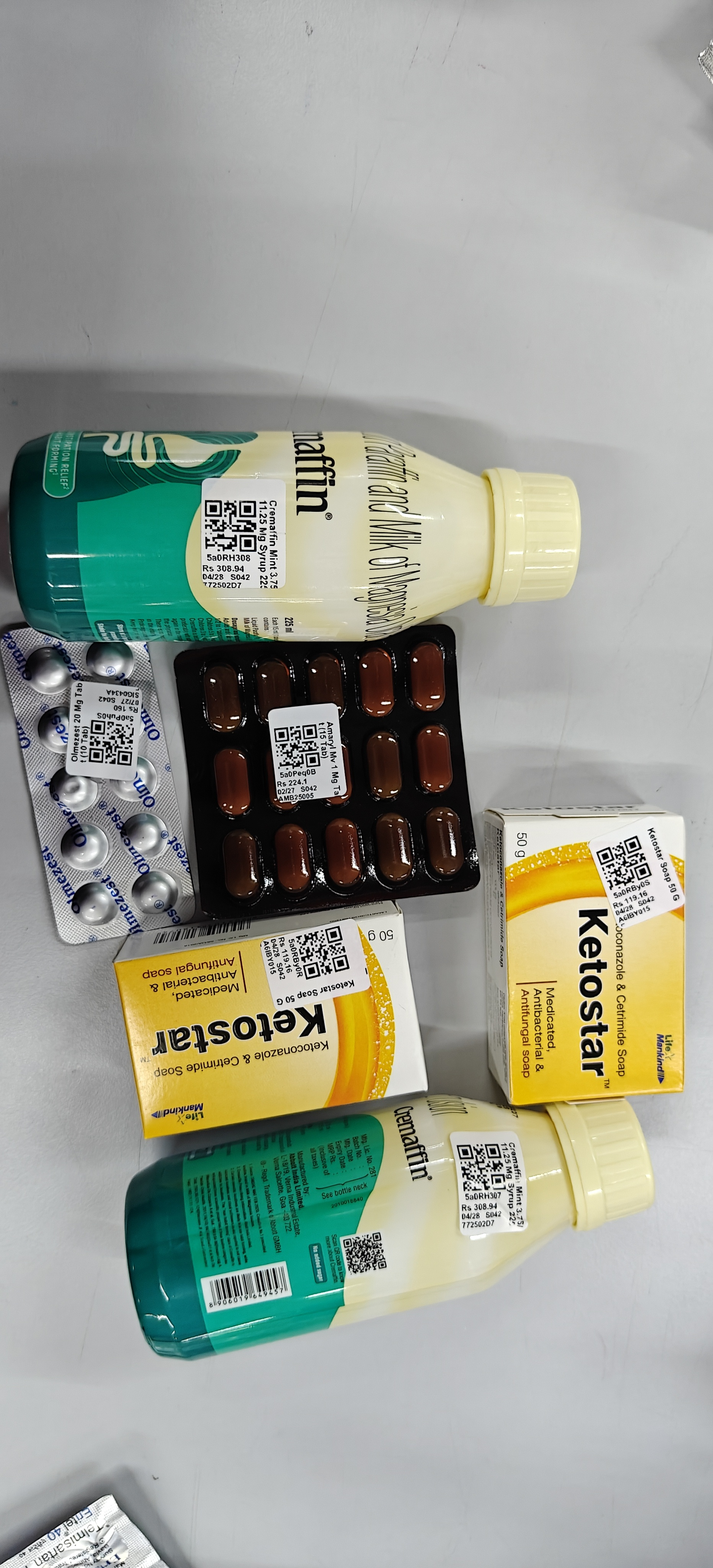qr_code: (80, 750, 320, 1057), (596, 835, 652, 892), (295, 925, 349, 979), (205, 500, 256, 552), (88, 719, 134, 765)
